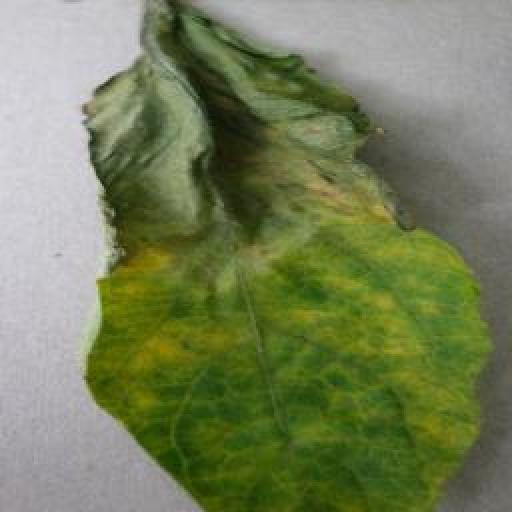disease_tomato: (75, 0, 492, 512)
